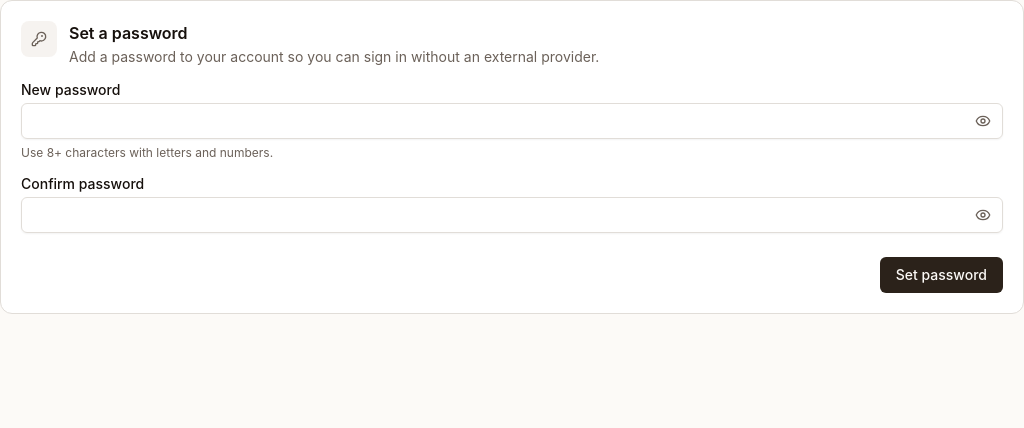
Test case: <SetPasswordForm /> › surfaces the BE error inline (e.g. the user actually had a password on file)
This screenshot has width=1024, height=428.
Type "super-strong-pw" into the password field with test id "set-new-password" at (512, 121), box [21,103,1003,139]
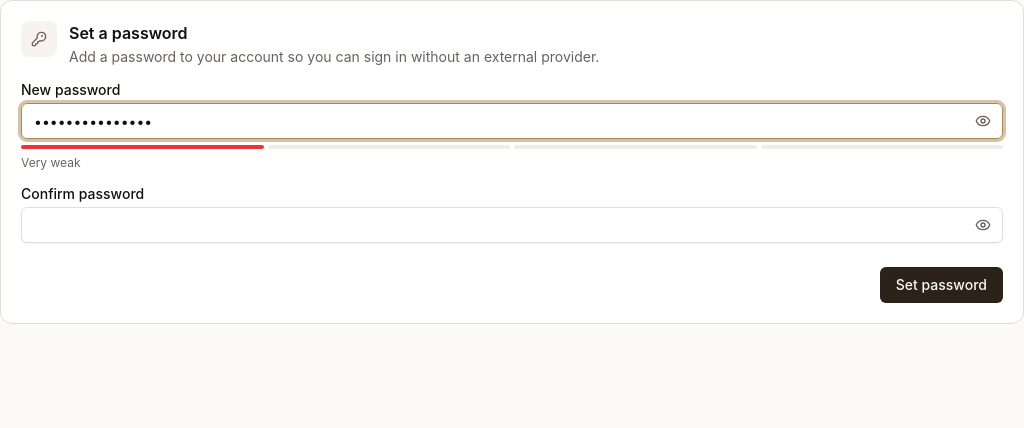
Type "super-strong-pw" into the password field with test id "set-confirm-password" at (512, 225), box [21,207,1003,243]
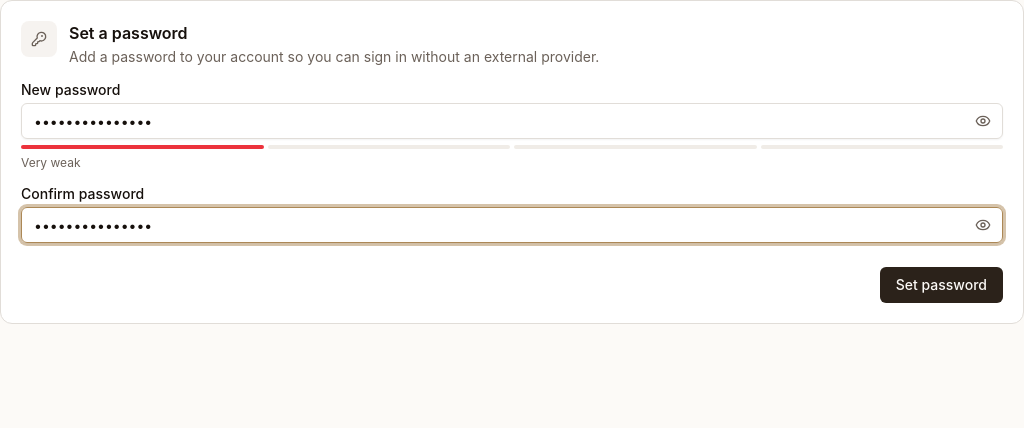
Click the button with test id "set-password-submit" at (941, 285), box [880,267,1003,303]
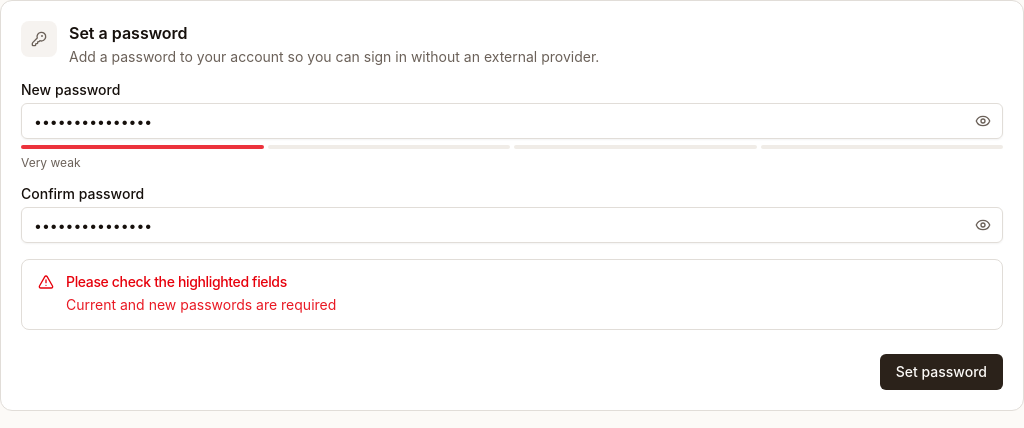
Now the message "Please check the highlighted fields Current and new passwords are required" is shown, box [21,259,1003,330]
